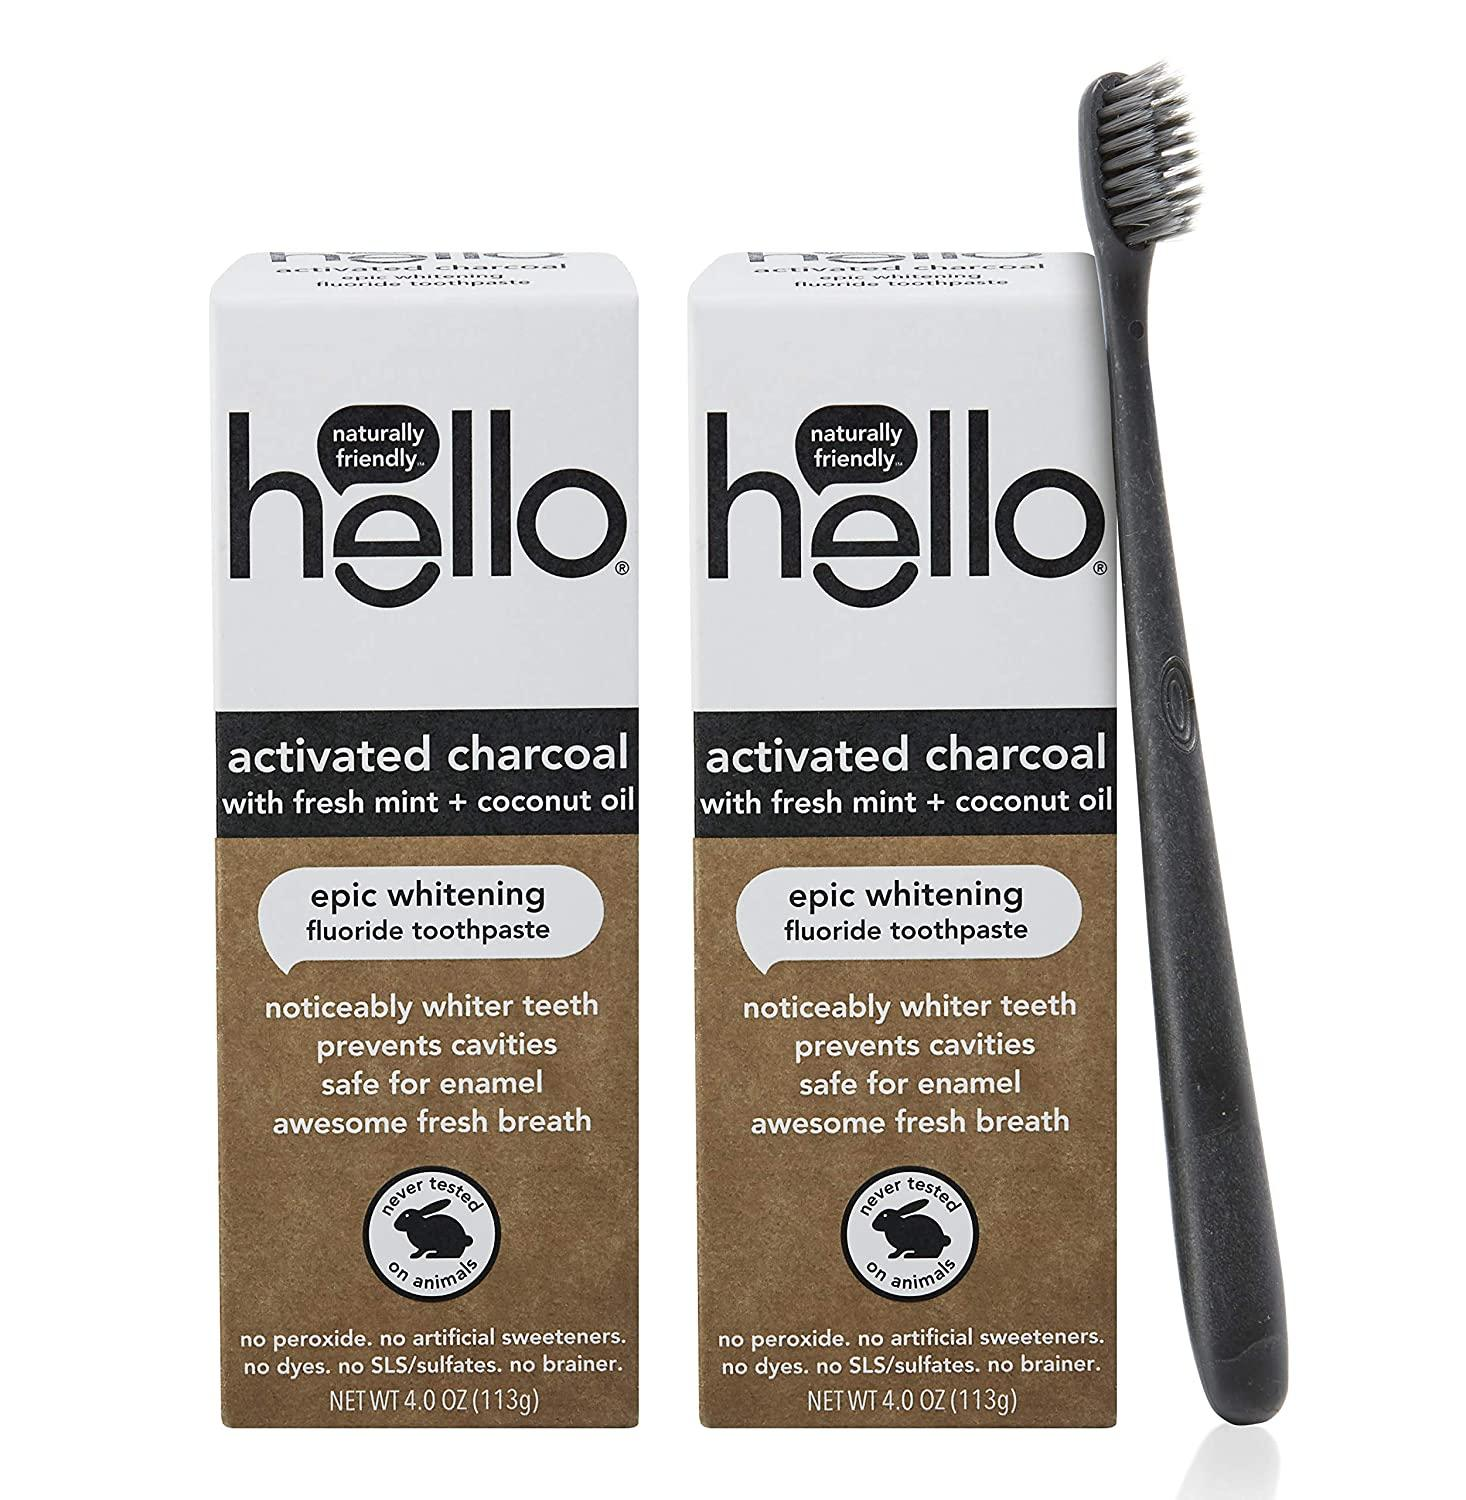toothpaste: (208, 222, 644, 1437), (695, 228, 1121, 1434)
